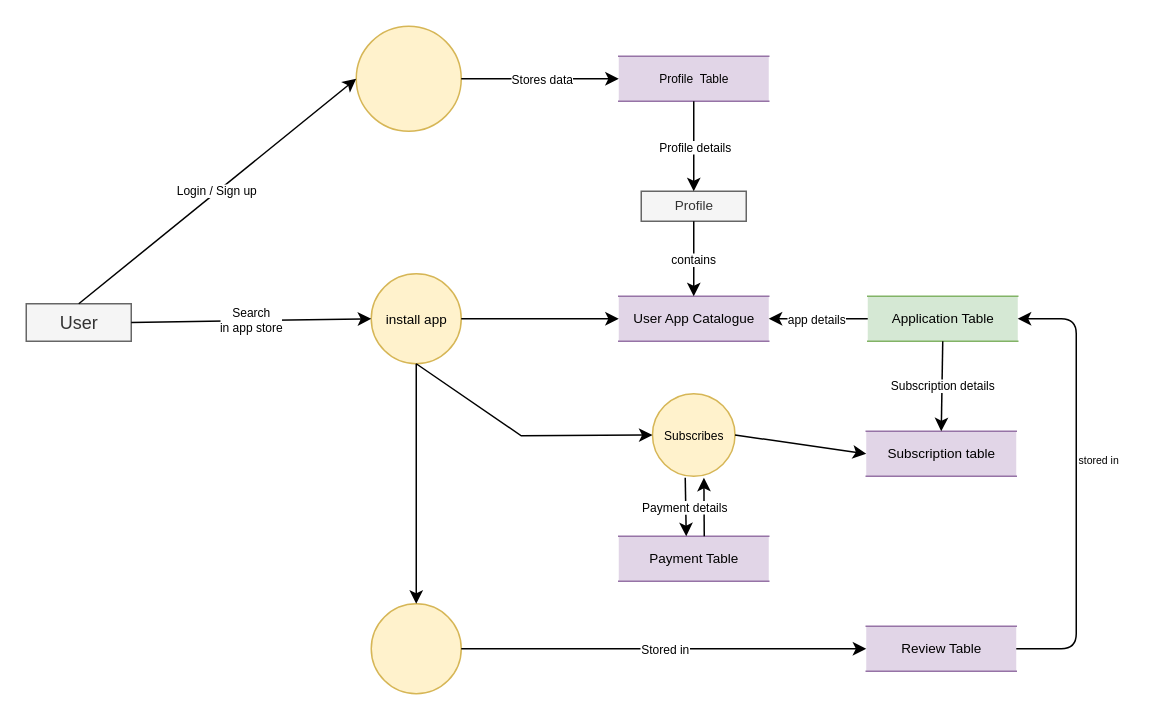
Some shapes in this 1172 by 720 pixel diagram are drawn without their labels. The shapes that lost their labels are listed below. From the top down, each one's centre as x and y in pixels, then its label:
At point 408,78: "creates profile (device)".
At point 415,648: "creates review".
